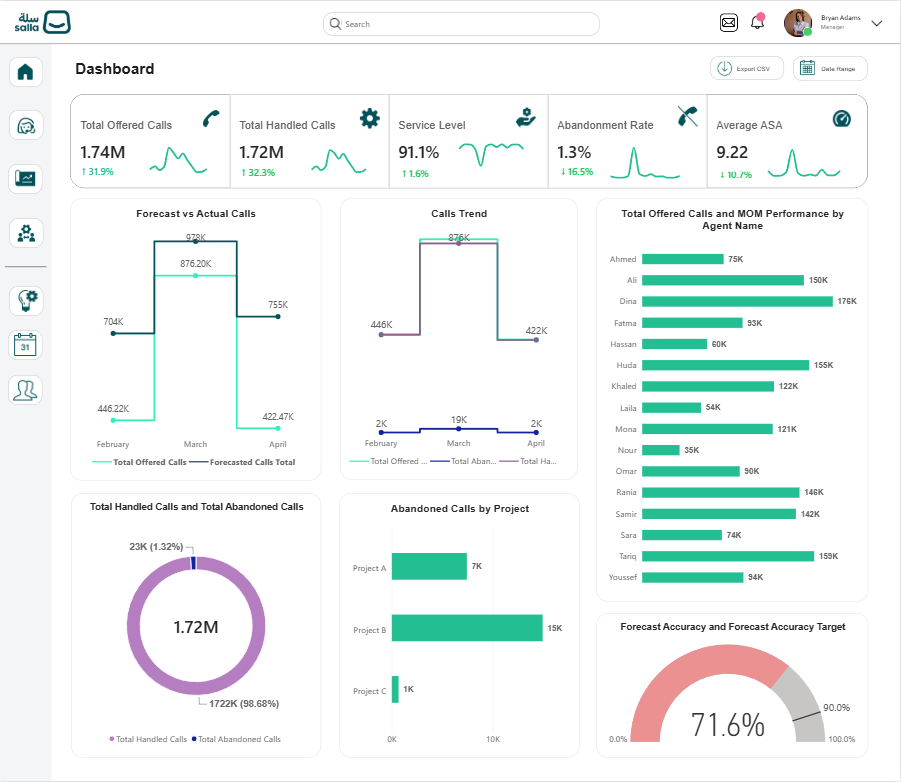

This screenshot's page, from the dashboard's own definition file:
{"tool":"powerbi","page":{"name":"Home","canvas":[1500,1300],"ordinal":1},"visuals":[{"type":"shape","box":[0,71.4,85.7,1228.6],"z":0},{"type":"shape","box":[0,0,1500,71.4],"z":1000},{"type":"image","box":[25.7,11.4,92.9,47.1],"z":2000},{"type":"image","box":[1306.7,12.5,47,46.8],"z":3000},{"type":"actionButton","box":[1357,15.5,90.5,20.5],"z":4000},{"type":"actionButton","box":[1353.5,29.5,68.5,25.5],"z":5000},{"type":"image","box":[1448,25,26,22],"z":6000},{"type":"shape","box":[1337.7,43.1,16.2,15.9],"z":7000},{"type":"image","box":[1248.8,18.8,27.5,35],"z":8000},{"type":"image","box":[1196.2,20,36.4,32.1],"z":9000},{"type":"shape","box":[1260.8,18.8,16,16],"z":10000},{"type":"actionButton","box":[538.9,18.9,461.2,40],"z":11000},{"type":"cardVisual","fields":{"Data":["Sallah Project.Total Offered Calls","Sallah Project.Total Handled Calls","Sallah Project.Service Level %","Sallah Project.Abandonment Rate %","Sallah Project.Average ASA"]},"box":[117.1,154.3,1330,157.1],"z":12000},{"type":"image","box":[332.9,174.3,36.4,40.7],"z":13000},{"type":"image","box":[598.6,174.3,36.4,40.7],"z":14000},{"type":"image","box":[858.6,172.9,36.4,40.7],"z":15000},{"type":"image","box":[1128.6,171.4,36.4,40.7],"z":16000},{"type":"image","box":[1384.3,174.3,36.4,40.7],"z":17000},{"type":"actionButton","box":[100,87.1,182.9,55.7],"z":18000},{"type":"actionButton","box":[14.5,92.7,57.1,50],"z":19000},{"type":"image","box":[22.3,100.9,41.7,33.3],"z":20000},{"type":"actionButton","box":[14.2,182.3,57.5,50],"z":21000},{"type":"image","box":[22.5,190.8,41.7,33.3],"z":22000},{"type":"actionButton","box":[13.6,271.8,57.5,50],"z":23000},{"type":"image","box":[21.2,280,41.7,33.3],"z":24000},{"type":"shape","box":[8.3,437.2,68.9,12.2],"z":25000},{"type":"lineChart","title":"Forecast vs Actual Calls","fields":{"Category":["calendar date.Date.Variation.Date Hierarchy.Month"],"Y":["Sallah Project.Total Offered Calls","Sallah Project.Forecasted Calls Total"]},"box":[117.1,328.6,418.6,471.4],"z":26000},{"type":"lineChart","title":"Calls Trend","fields":{"Category":["calendar date.Date.Variation.Date Hierarchy.Month"],"Y":["Sallah Project.Total Offered Calls","Sallah Project.Total Abandoned Calls","Sallah Project.Total Handled Calls"]},"box":[567.1,328.6,395.7,470],"z":27000},{"type":"donutChart","fields":{"Y":["Sallah Project.Total Handled Calls","Sallah Project.Total Abandoned Calls"]},"box":[118.6,820,417.1,441.4],"z":28000},{"type":"actionButton","box":[14.4,362.2,57.5,50],"z":33000},{"type":"image","box":[22.5,370,41.7,33.3],"z":34000},{"type":"actionButton","box":[15,475,57.5,50],"z":35000},{"type":"actionButton","box":[13.8,548.8,57.5,50],"z":36000},{"type":"image","box":[20,554,44.7,40],"z":37000},{"type":"actionButton","box":[1322.3,91.5,124.6,41.5],"z":38000},{"type":"image","box":[1331.2,98.4,28.2,26.5],"z":39000},{"type":"actionButton","box":[14,622.7,57.5,50],"z":41000},{"type":"image","box":[20.7,628,44.7,40],"z":42000},{"type":"image","box":[22.7,480,44.7,40],"z":45000},{"type":"actionButton","box":[1357.2,99.6,84.4,25.6],"z":46000},{"type":"clusteredBarChart","title":"Abandoned Calls by Project","fields":{"Category":["Sallah Project.Project"],"Y":["Sallah Project.Total Abandoned Calls"]},"box":[565.7,820,401.4,441.4],"z":49000},{"type":"actionButton","box":[1182.9,91.4,123.6,40],"z":50000},{"type":"image","box":[1195,97.9,25.7,28.6],"z":51000},{"type":"actionButton","box":[1214.3,99.3,81.4,25.7],"z":52000},{"type":"shape","box":[0,65.3,1500,12],"z":53000},{"type":"lineChart","title":"Service Level Trend","fields":{"Category":["Sallah Project.Week Number"],"Y":["Sallah Project.Total Offered Calls"]},"box":[216.7,215,168.3,96.7],"z":54000},{"type":"lineChart","title":"Service Level Trend","fields":{"Category":["Sallah Project.Week Number"],"Y":["Sallah Project.Total Handled Calls"]},"box":[486.7,215,163.3,96.7],"z":55000},{"type":"lineChart","title":"Service Level Trend","fields":{"Category":["Sallah Project.Week Number"],"Y":["Sallah Project.Service Level %"]},"box":[731.1,215.6,183.3,95.6],"z":56000},{"type":"lineChart","title":"Service Level Trend","fields":{"Category":["Sallah Project.Week Number"],"Y":["Sallah Project.Total Abandoned Calls"]},"box":[983.3,216.7,193.3,95.6],"z":57000},{"type":"lineChart","title":"Service Level Trend","fields":{"Category":["Sallah Project.Week Number"],"Y":["Sallah Project.Average ASA"]},"box":[1244.4,214.4,200,95.6],"z":58000},{"type":"gauge","fields":{"TargetValue":["Sallah Project.Forecast Accuracy Target"],"Y":["Sallah Project.Forecast Accuracy %"]},"box":[992.9,1020,454.3,241.4],"z":60000},{"type":"card","fields":{"Values":["Sallah Project.Service Level Trend"]},"box":[652.2,265.8,80.9,43.6],"z":61000},{"type":"card","fields":{"Values":["Sallah Project.Abandonment Trend"]},"box":[908.3,263.3,106.7,48.3],"z":62000},{"type":"card","fields":{"Values":["Sallah Project.ASA Trend"]},"box":[1176.7,266.7,100,43.3],"z":63000},{"type":"card","fields":{"Values":["Sallah Project.Offered Calls Trend"]},"box":[118.3,262.5,88.3,45.8],"z":64000},{"type":"card","fields":{"Values":["Sallah Project.Handled Calls Trend"]},"box":[382.5,265,93.8,46.2],"z":65000},{"type":"barChart","title":"Total Offered Calls and MOM Performance by Agent Name","fields":{"Category":["Sallah Project.Agent Name"],"Y":["Sallah Project.Total Offered Calls"]},"box":[992.9,328.6,454.3,672.9],"z":65001}]}

Visuals, with their boxes on the page's 1500x1300 design canvas (x1, y1, x2, y2). These are canvas units, not pixel positions in the 901x782 screenshot, which may show the page scaled, cropped or inside an application window:
shape: {"left": 0, "top": 71, "right": 86, "bottom": 1300}
shape: {"left": 0, "top": 0, "right": 1500, "bottom": 71}
image: {"left": 26, "top": 11, "right": 119, "bottom": 58}
image: {"left": 1307, "top": 12, "right": 1354, "bottom": 59}
actionButton: {"left": 1357, "top": 16, "right": 1448, "bottom": 36}
actionButton: {"left": 1354, "top": 30, "right": 1422, "bottom": 55}
image: {"left": 1448, "top": 25, "right": 1474, "bottom": 47}
shape: {"left": 1338, "top": 43, "right": 1354, "bottom": 59}
image: {"left": 1249, "top": 19, "right": 1276, "bottom": 54}
image: {"left": 1196, "top": 20, "right": 1233, "bottom": 52}
shape: {"left": 1261, "top": 19, "right": 1277, "bottom": 35}
actionButton: {"left": 539, "top": 19, "right": 1000, "bottom": 59}
cardVisual - Sallah Project.Total Offered Calls x Sallah Project.Total Handled Calls: {"left": 117, "top": 154, "right": 1447, "bottom": 311}
image: {"left": 333, "top": 174, "right": 369, "bottom": 215}
image: {"left": 599, "top": 174, "right": 635, "bottom": 215}
image: {"left": 859, "top": 173, "right": 895, "bottom": 214}
image: {"left": 1129, "top": 171, "right": 1165, "bottom": 212}
image: {"left": 1384, "top": 174, "right": 1421, "bottom": 215}
actionButton: {"left": 100, "top": 87, "right": 283, "bottom": 143}
actionButton: {"left": 14, "top": 93, "right": 72, "bottom": 143}
image: {"left": 22, "top": 101, "right": 64, "bottom": 134}
actionButton: {"left": 14, "top": 182, "right": 72, "bottom": 232}
image: {"left": 22, "top": 191, "right": 64, "bottom": 224}
actionButton: {"left": 14, "top": 272, "right": 71, "bottom": 322}
image: {"left": 21, "top": 280, "right": 63, "bottom": 313}
shape: {"left": 8, "top": 437, "right": 77, "bottom": 449}
"Forecast vs Actual Calls" lineChart: {"left": 117, "top": 329, "right": 536, "bottom": 800}
"Calls Trend" lineChart: {"left": 567, "top": 329, "right": 963, "bottom": 799}
donutChart - Sallah Project.Total Handled Calls x Sallah Project.Total Abandoned Calls: {"left": 119, "top": 820, "right": 536, "bottom": 1261}
actionButton: {"left": 14, "top": 362, "right": 72, "bottom": 412}
image: {"left": 22, "top": 370, "right": 64, "bottom": 403}
actionButton: {"left": 15, "top": 475, "right": 72, "bottom": 525}
actionButton: {"left": 14, "top": 549, "right": 71, "bottom": 599}
image: {"left": 20, "top": 554, "right": 65, "bottom": 594}
actionButton: {"left": 1322, "top": 92, "right": 1447, "bottom": 133}
image: {"left": 1331, "top": 98, "right": 1359, "bottom": 125}
actionButton: {"left": 14, "top": 623, "right": 72, "bottom": 673}
image: {"left": 21, "top": 628, "right": 65, "bottom": 668}
image: {"left": 23, "top": 480, "right": 67, "bottom": 520}
actionButton: {"left": 1357, "top": 100, "right": 1442, "bottom": 125}
"Abandoned Calls by Project" clusteredBarChart: {"left": 566, "top": 820, "right": 967, "bottom": 1261}
actionButton: {"left": 1183, "top": 91, "right": 1306, "bottom": 131}
image: {"left": 1195, "top": 98, "right": 1221, "bottom": 126}
actionButton: {"left": 1214, "top": 99, "right": 1296, "bottom": 125}
shape: {"left": 0, "top": 65, "right": 1500, "bottom": 77}
"Service Level Trend" lineChart: {"left": 217, "top": 215, "right": 385, "bottom": 312}
"Service Level Trend" lineChart: {"left": 487, "top": 215, "right": 650, "bottom": 312}
"Service Level Trend" lineChart: {"left": 731, "top": 216, "right": 914, "bottom": 311}
"Service Level Trend" lineChart: {"left": 983, "top": 217, "right": 1177, "bottom": 312}
"Service Level Trend" lineChart: {"left": 1244, "top": 214, "right": 1444, "bottom": 310}
gauge - Sallah Project.Forecast Accuracy Target x Sallah Project.Forecast Accuracy %: {"left": 993, "top": 1020, "right": 1447, "bottom": 1261}
card - Sallah Project.Service Level Trend: {"left": 652, "top": 266, "right": 733, "bottom": 309}
card - Sallah Project.Abandonment Trend: {"left": 908, "top": 263, "right": 1015, "bottom": 312}
card - Sallah Project.ASA Trend: {"left": 1177, "top": 267, "right": 1277, "bottom": 310}
card - Sallah Project.Offered Calls Trend: {"left": 118, "top": 262, "right": 207, "bottom": 308}
card - Sallah Project.Handled Calls Trend: {"left": 382, "top": 265, "right": 476, "bottom": 311}
"Total Offered Calls and MOM Performance by Agent Name" barChart: {"left": 993, "top": 329, "right": 1447, "bottom": 1002}
